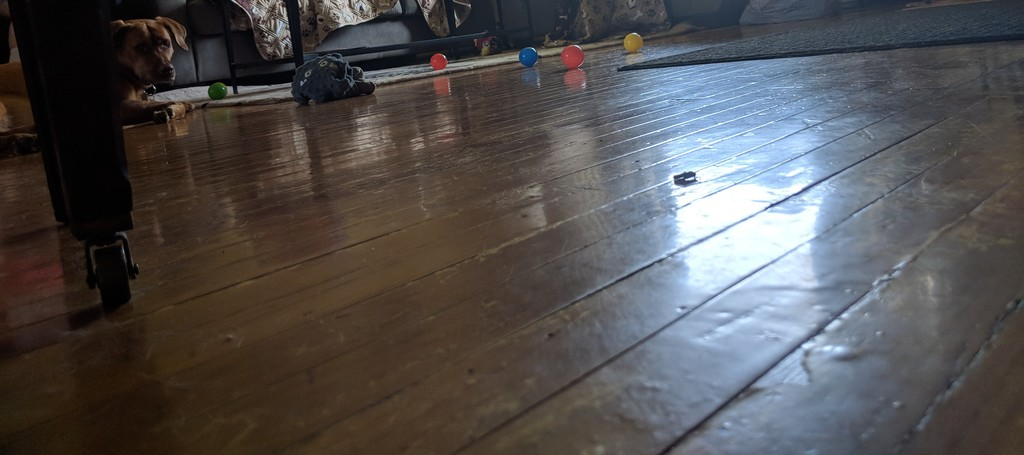ball: (624, 33, 643, 53)
